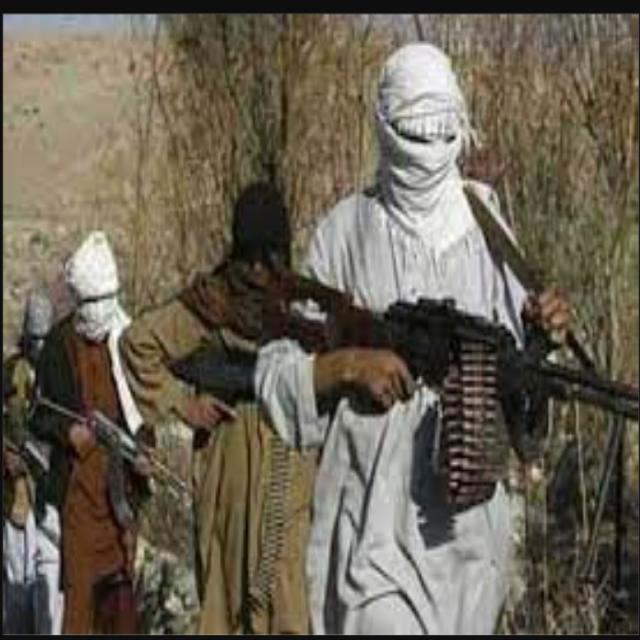terrorist: (252, 42, 639, 639), (116, 180, 325, 632), (28, 229, 196, 639), (0, 288, 65, 638)
